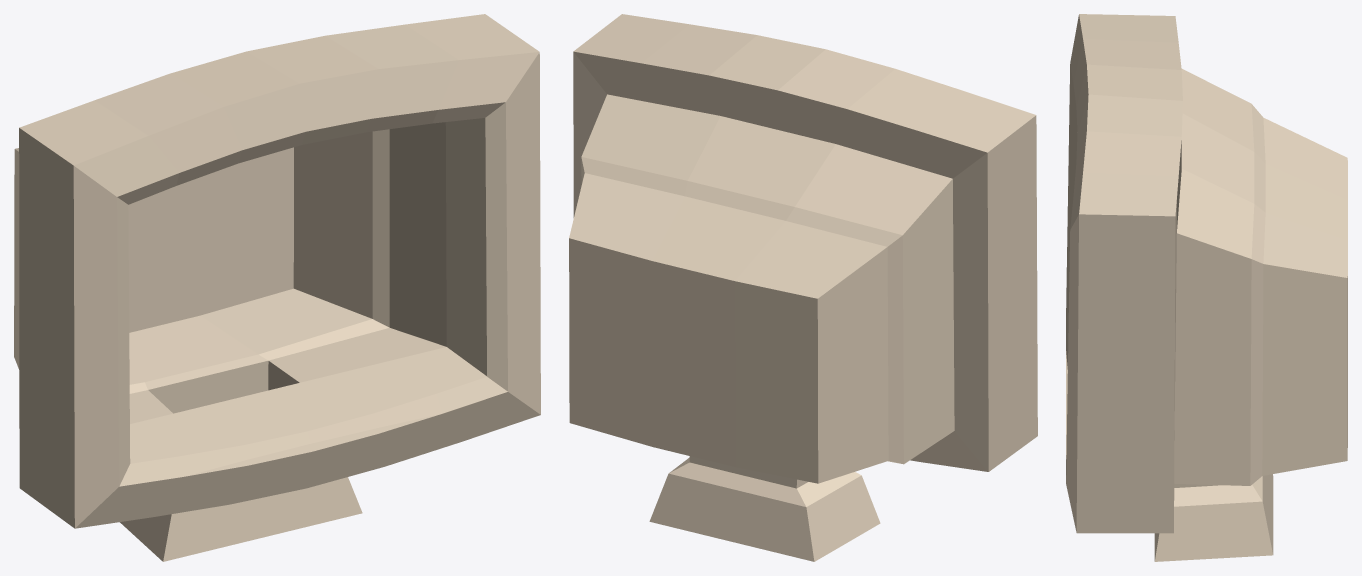
The model's file is monitor.glb.
3 views of the same model, side by side, from view 1: azimuth 30°, elevation 25°; view 2: azimuth 150°, elevation 25°; view 3: azimuth 270°, elevation 25° (orthographic). The views are drawn at different scales.
Visible parts, largest first — view 1: Cube; view 2: Cube; view 3: Cube.
Boxes of the visible parts, x1,y1,x2,y2 form: Cube: (14, 14, 540, 561); Cube: (569, 14, 1037, 561); Cube: (1066, 14, 1347, 561).
Bounding box in the file's own units: 2.51 × 2.48 × 1.49.
